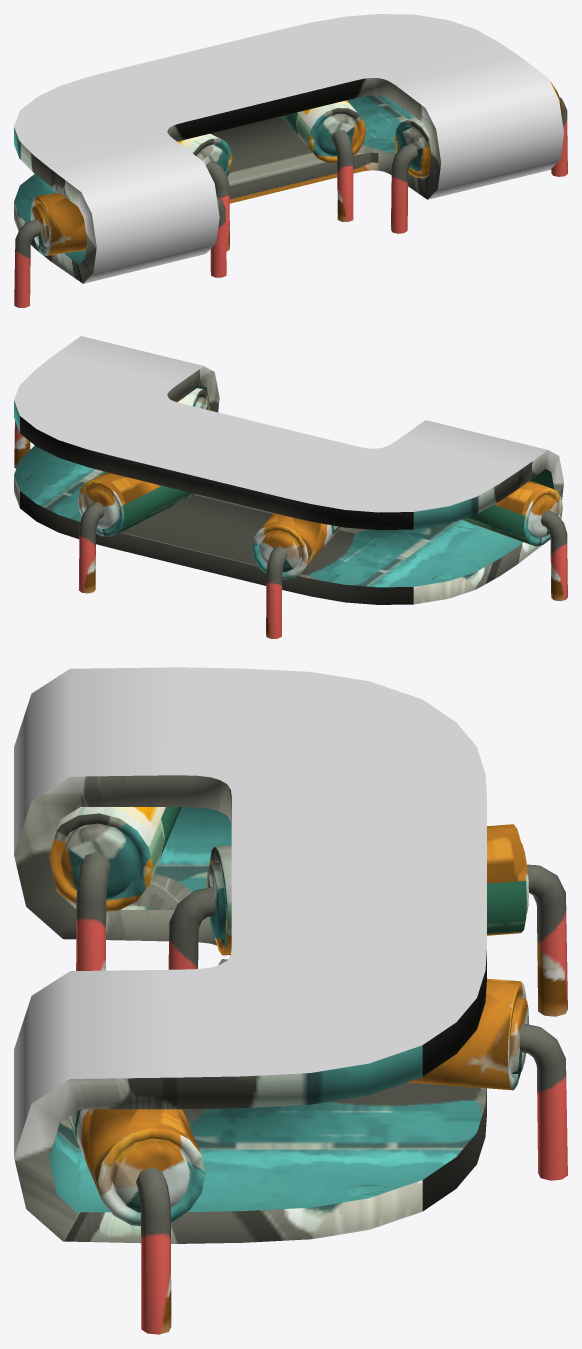
File: MountedSmallUConveyorBelt.fbx
3 renders of one model, top to bottom at view 1: azimuth 30°, elevation 25°; view 2: azimuth 150°, elevation 25°; view 3: azimuth 270°, elevation 25°, orthographic. The views are drawn at different scales.
Visible parts, largest first — view 1: MountedSmallUConveyorBelt; view 2: MountedSmallUConveyorBelt; view 3: MountedSmallUConveyorBelt.
Part boxes in pixels (x1,y1,x2,y2): MountedSmallUConveyorBelt: (14,14,567,307); MountedSmallUConveyorBelt: (14,336,567,638); MountedSmallUConveyorBelt: (14,667,567,1334).
Size of the model in its own units: 6.05 by 1.28 by 2.92.
